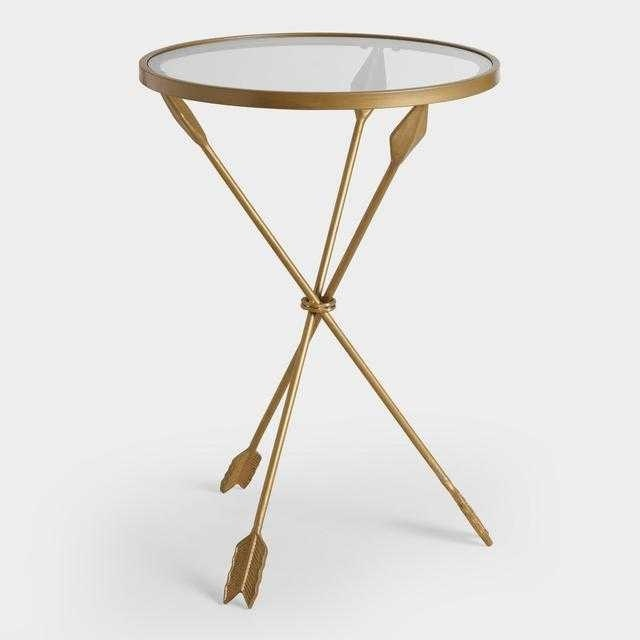obstacle: (139, 33, 498, 607)
